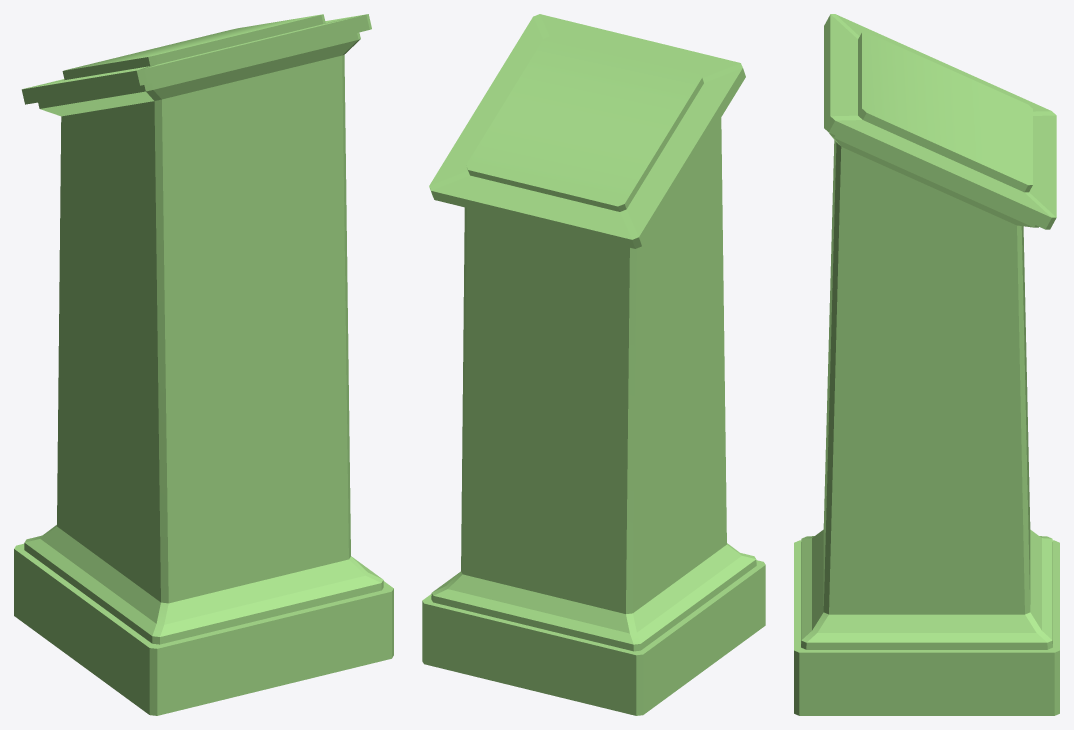
Rendered from Pedestal.fbx.
3 renders of one model, left to right at view 1: azimuth 30°, elevation 25°; view 2: azimuth 150°, elevation 25°; view 3: azimuth 270°, elevation 25°, orthographic. The views are drawn at different scales.
Visible parts, largest first — view 1: Pedestal2, Pedestal; view 2: Pedestal2, Pedestal; view 3: Pedestal2, Pedestal.
Boxes of the visible parts, x1,y1,x2,y2 form: Pedestal2: [57, 55, 350, 603]; Pedestal: [14, 14, 393, 715]; Pedestal2: [461, 118, 726, 613]; Pedestal: [422, 14, 765, 715]; Pedestal2: [823, 140, 1030, 614]; Pedestal: [794, 14, 1059, 715].
Size of the model in its own units: 58.35 by 144 by 58.35.
